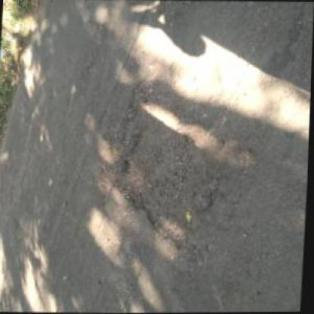Hueco: (110, 76, 235, 252)
